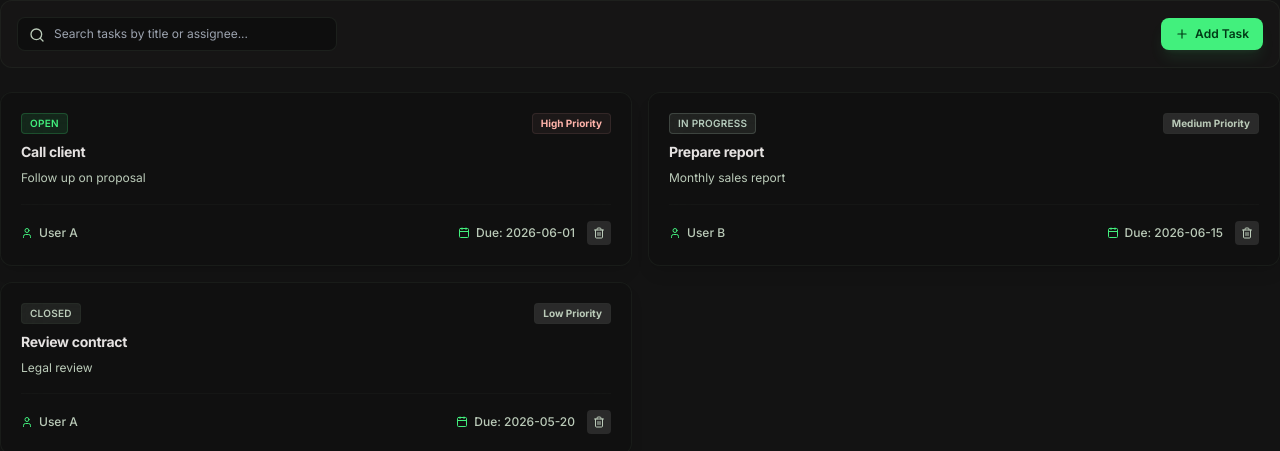
it: Tasks Page › filters tasks by search
Expected: the heading "Call client" is shown, [21,143,85,160]
Type "report" into the field with placeholder "Search tasks by title or assignee..." at (177, 34), box [17,17,337,51]
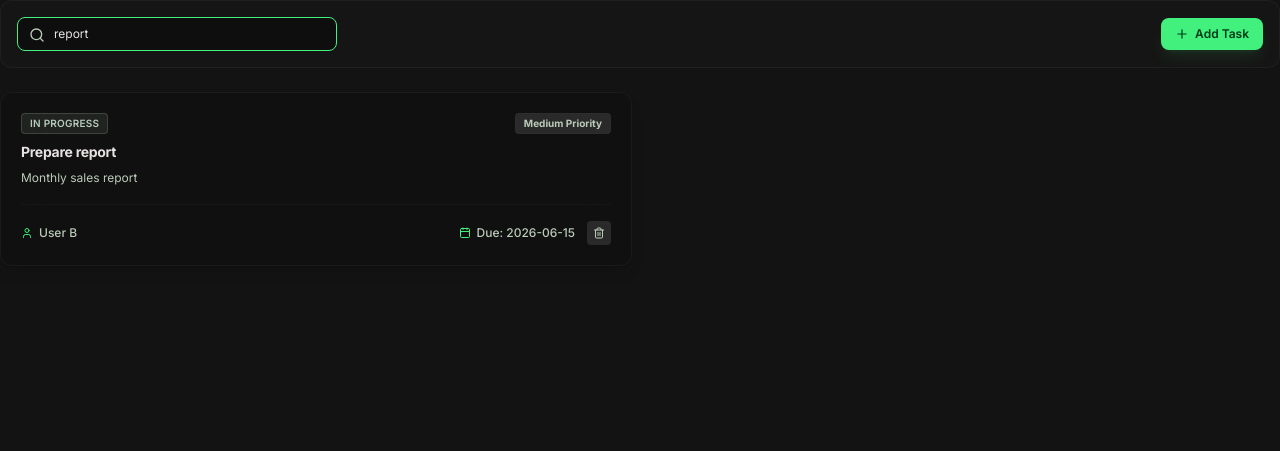
Expected: the heading "Prepare report" is shown, [21,143,116,160]
Expected: the heading "Call client" is gone
